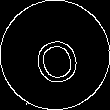O_N: (27, 25, 83, 85)
